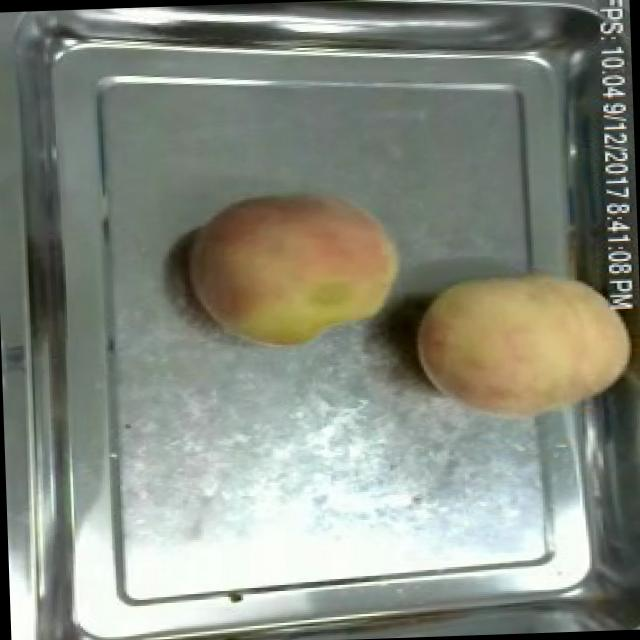Fruit: (405, 257, 640, 433), (176, 181, 408, 359)
